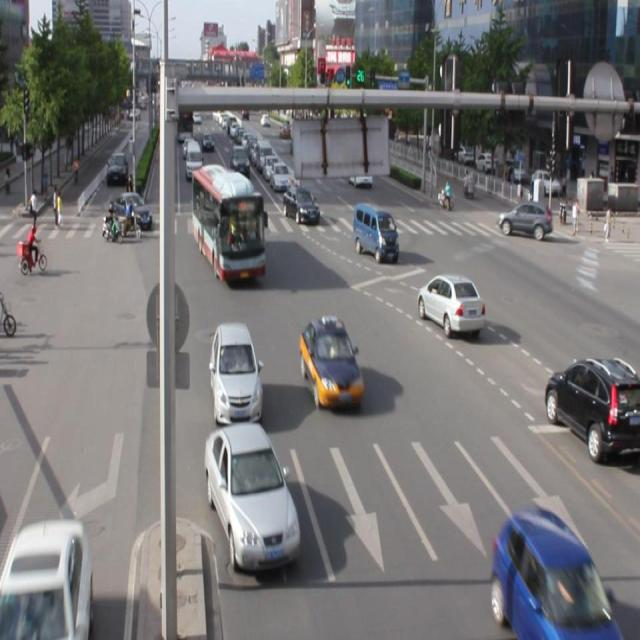car: (492, 505, 623, 640), (205, 422, 301, 570), (1, 519, 92, 640), (543, 355, 640, 460), (300, 317, 363, 410), (210, 321, 262, 424), (417, 272, 485, 336)
truck: (352, 201, 398, 261)
van: (192, 168, 265, 280)
